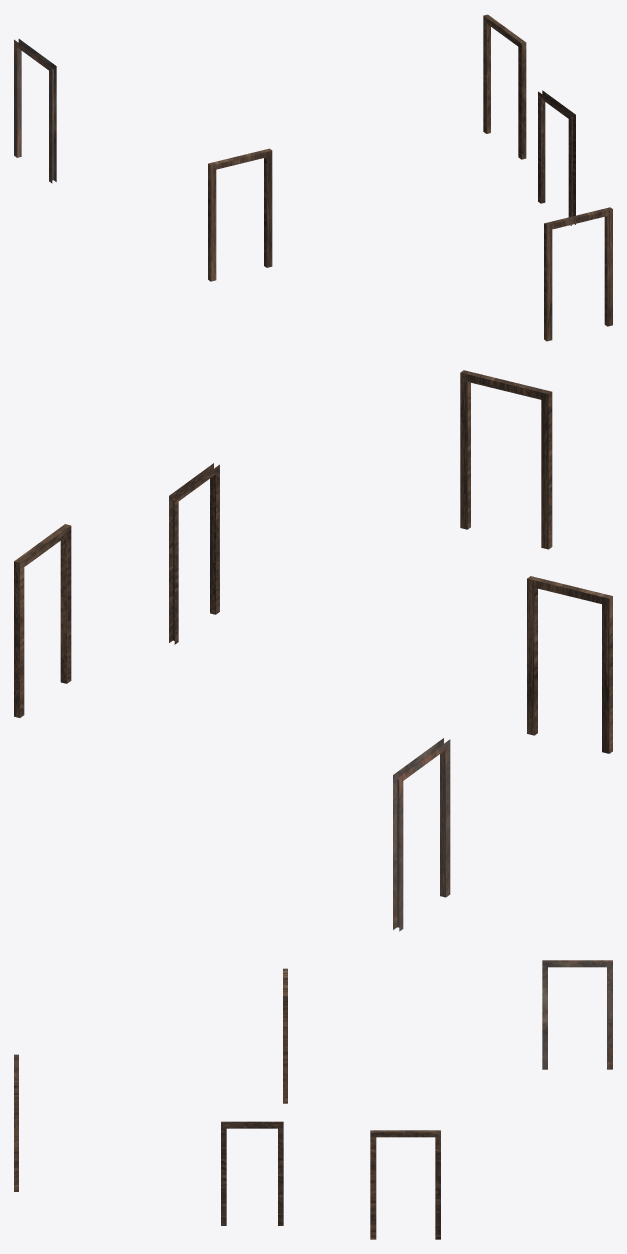
Rendered from E_Door_l_1.fbx.
3 renders of one model, top to bottom at view 1: azimuth 30°, elevation 25°; view 2: azimuth 150°, elevation 25°; view 3: azimuth 270°, elevation 25°, orthographic. The views are drawn at different scales.
Parts seen in each view (by area): view 1: E_Door_l_1; view 2: E_Door_l_1; view 3: E_Door_l_1.
Part boxes in pixels (<box>): E_Door_l_1: <box>14,14,612,341</box>; E_Door_l_1: <box>14,370,612,931</box>; E_Door_l_1: <box>14,960,612,1239</box>.
Size of what is drawn, in the model's own units: 829 by 242 by 1220.
Materials: 1 (1 with a texture image).
